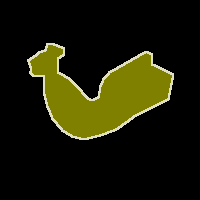tie: (28, 44, 173, 139)
